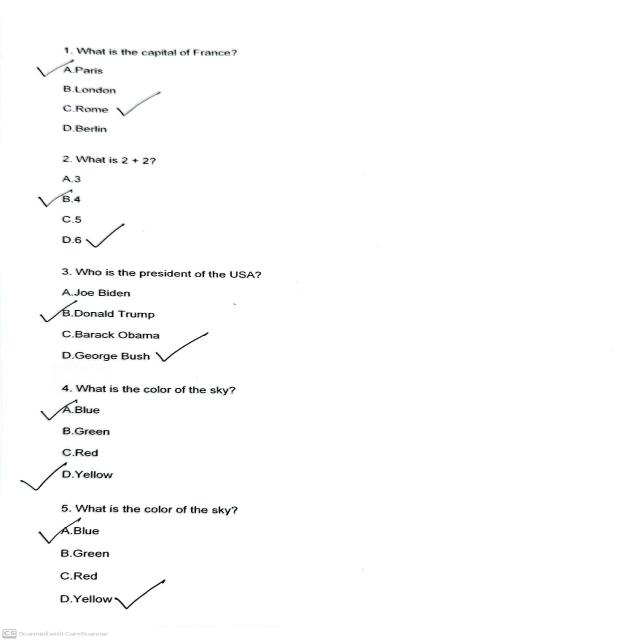Student_Ticked: (156, 332, 207, 362), (29, 178, 72, 210), (24, 56, 77, 80), (27, 462, 69, 492), (84, 221, 127, 250), (115, 91, 161, 118), (123, 578, 160, 611), (40, 517, 83, 545), (36, 300, 78, 324), (42, 401, 75, 422)
